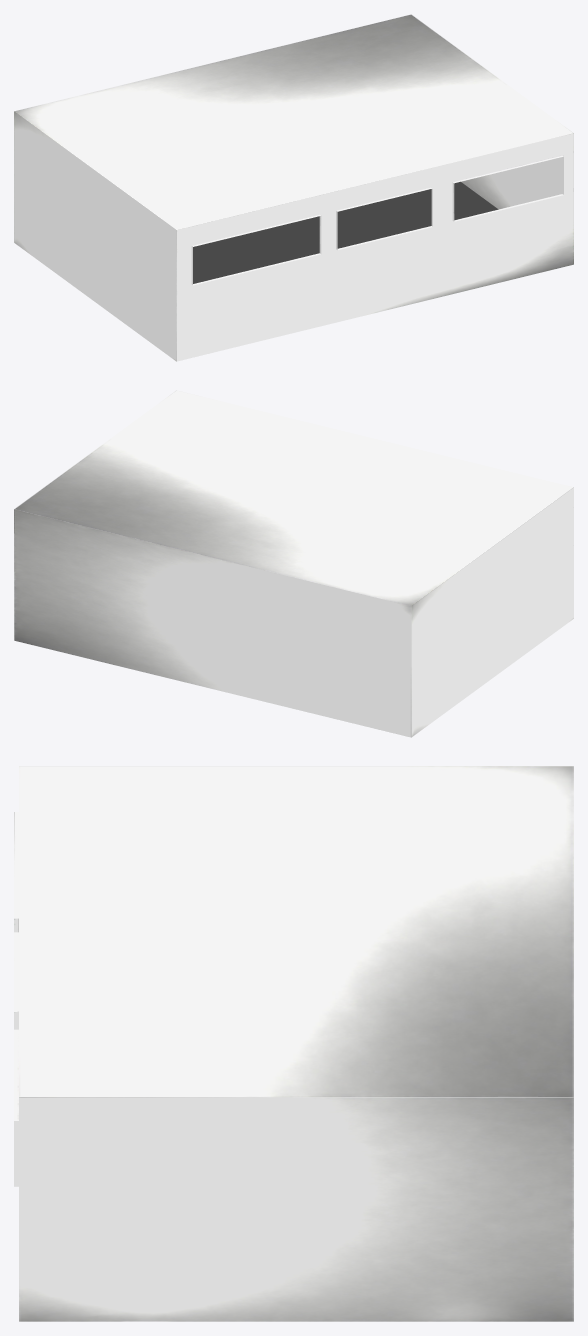
File: room.glb
The picture shows the model from 3 angles, top to bottom: view 1: azimuth 30°, elevation 25°; view 2: azimuth 150°, elevation 25°; view 3: azimuth 270°, elevation 25°; orthographic projection. The views are drawn at different scales.
Visible parts, largest first — view 1: Cube, Cube.001; view 2: Cube; view 3: Cube.
Part boxes in pixels (x1,y1,x2,y2): Cube: (14, 14, 573, 361); Cube.001: (193, 181, 498, 283); Cube: (14, 390, 573, 737); Cube: (14, 766, 573, 1321).
Bounding box in the file's own units: 19 × 6 × 13.57.
Materials: 2 (1 with a texture image).
